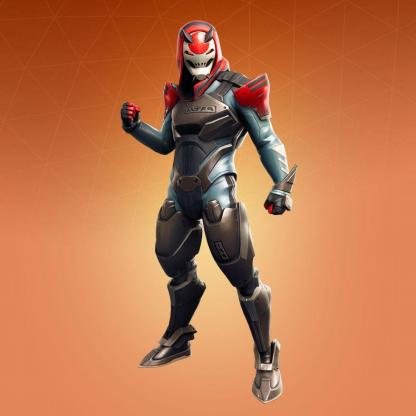person: (119, 18, 300, 402)
